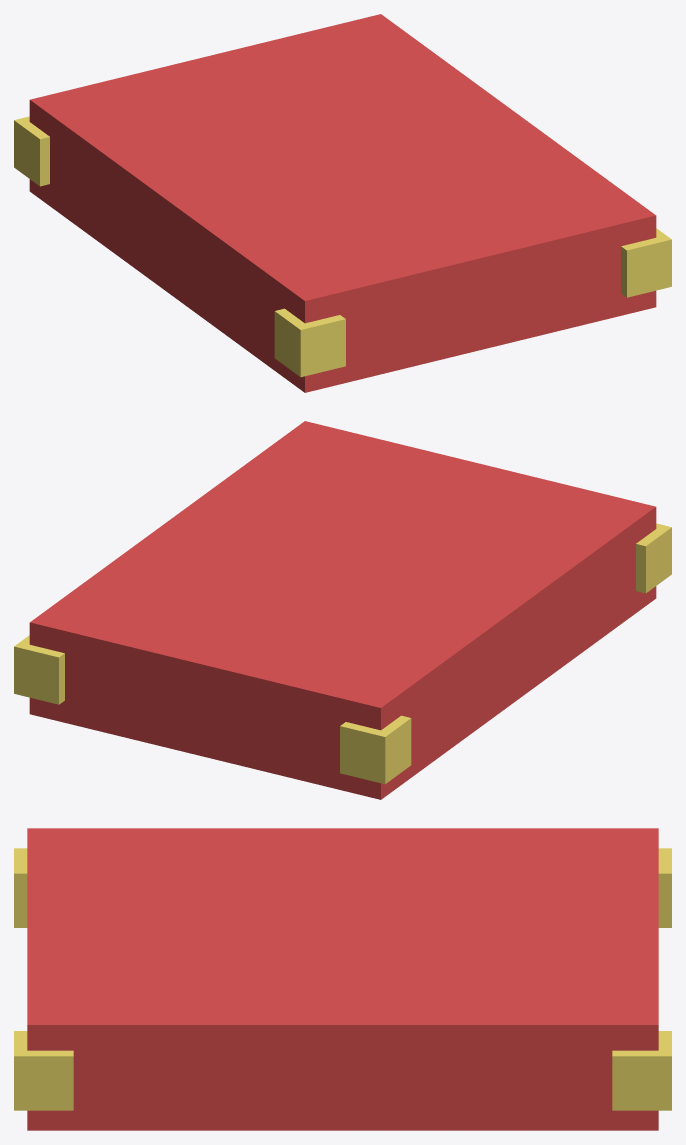
Rendered from szkolny_dziennik.fbx.
3 renders of one model, top to bottom at view 1: azimuth 30°, elevation 25°; view 2: azimuth 150°, elevation 25°; view 3: azimuth 270°, elevation 25°, orthographic. The views are drawn at different scales.
Parts seen in each view (by area): view 1: DziennikOcen; view 2: DziennikOcen; view 3: DziennikOcen.
Part boxes in pixels (x1,y1,x2,y2): DziennikOcen: (14,14,671,392); DziennikOcen: (14,421,671,799); DziennikOcen: (14,828,671,1130).
Size of the model in its own units: 1.48 by 0.35 by 1.98.
